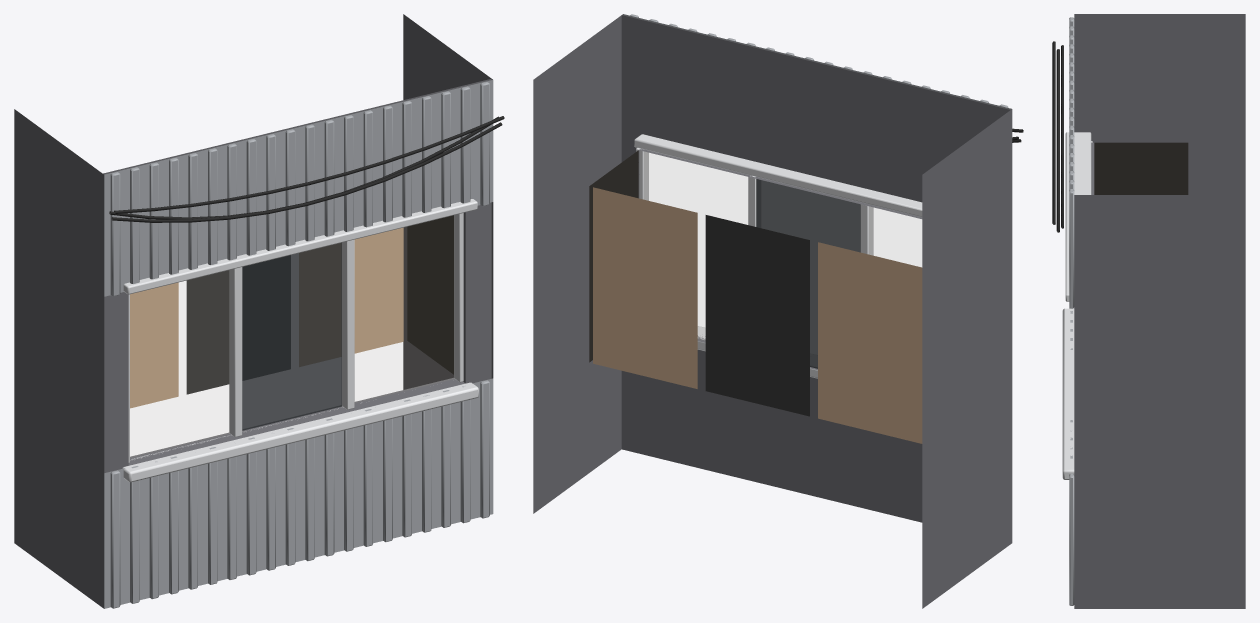
The model's file is retro_upper_3a.glb.
The picture shows the model from 3 angles, left to right: view 1: azimuth 30°, elevation 25°; view 2: azimuth 150°, elevation 25°; view 3: azimuth 270°, elevation 25°; orthographic projection. The views are drawn at different scales.
Parts seen in each view (by area): view 1: retro_upper_3a; view 2: retro_upper_3a; view 3: retro_upper_3a.
Boxes of the visible parts, bbox=[...] form: retro_upper_3a: bbox=[14, 14, 504, 608]; retro_upper_3a: bbox=[533, 14, 1023, 608]; retro_upper_3a: bbox=[1052, 14, 1245, 608].
Bounding box in the file's own units: 3.01 × 3.2 × 1.35.
